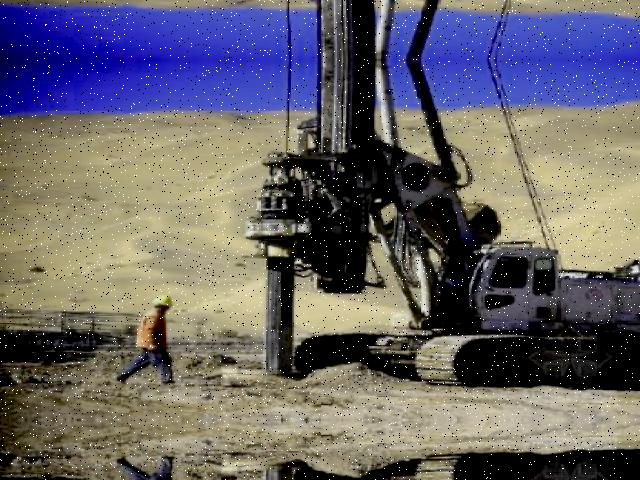Helmet: (145, 292, 173, 310)
